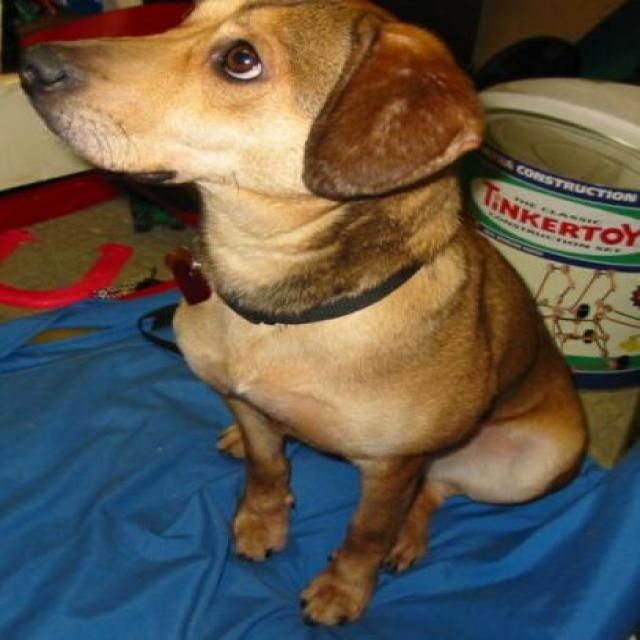Dogs: (16, 0, 591, 627)
